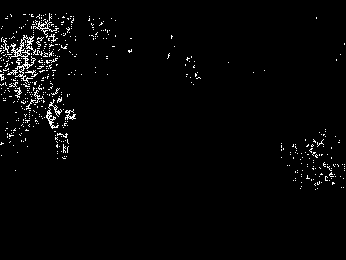person: (45, 88, 78, 162)
